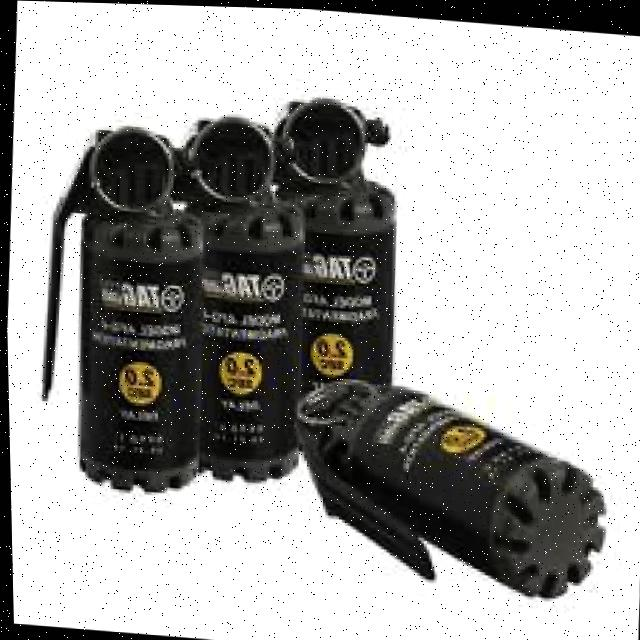grenade: (278, 365, 613, 601), (26, 113, 222, 498), (153, 95, 316, 486), (258, 75, 406, 384)
